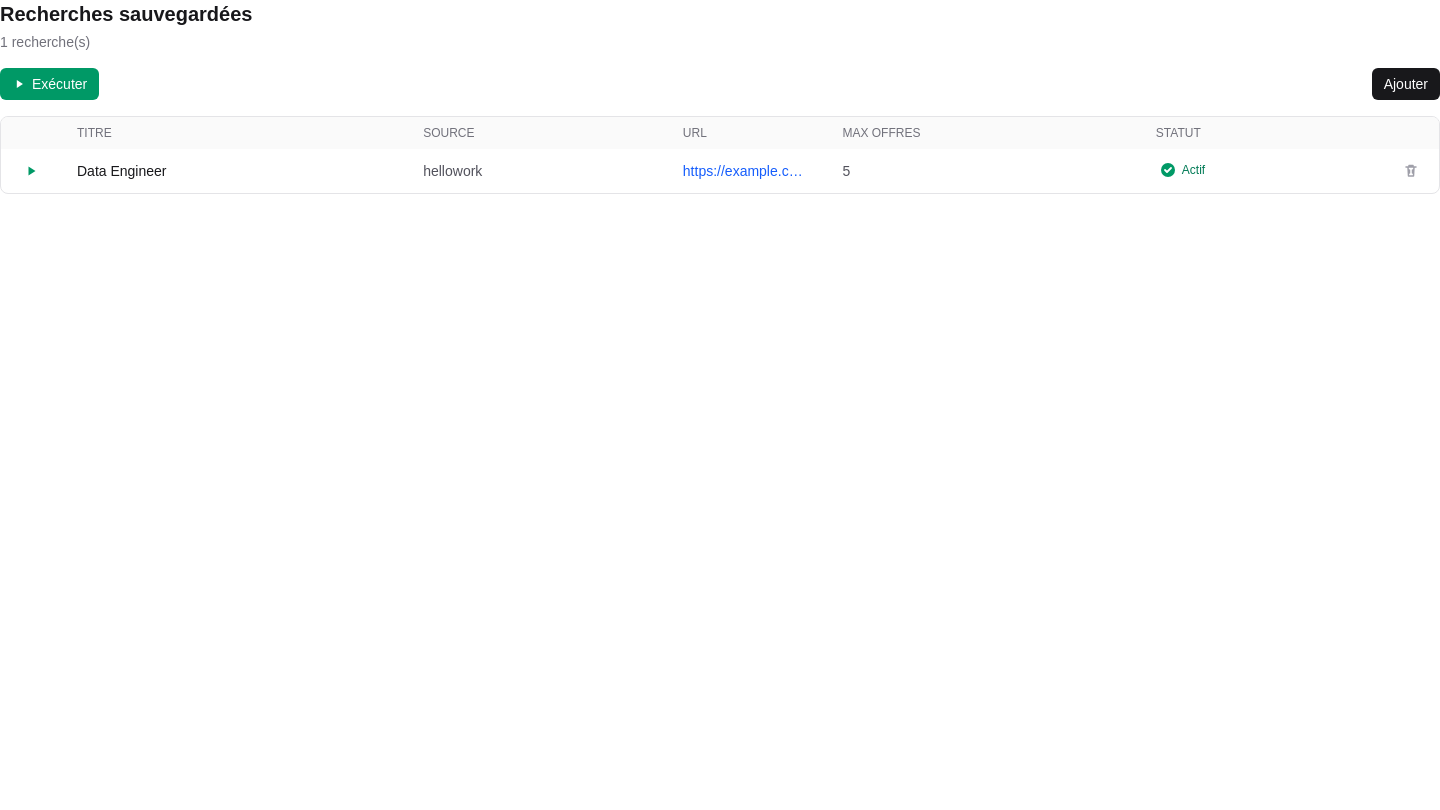
Test case: SearchSettingsBrowser › modifie un paramètre au clic sur une ligne (champs pré-remplis)
Click the text "Data Engineer" at (122,171), box top-left (61, 149), bottom-right (407, 193)
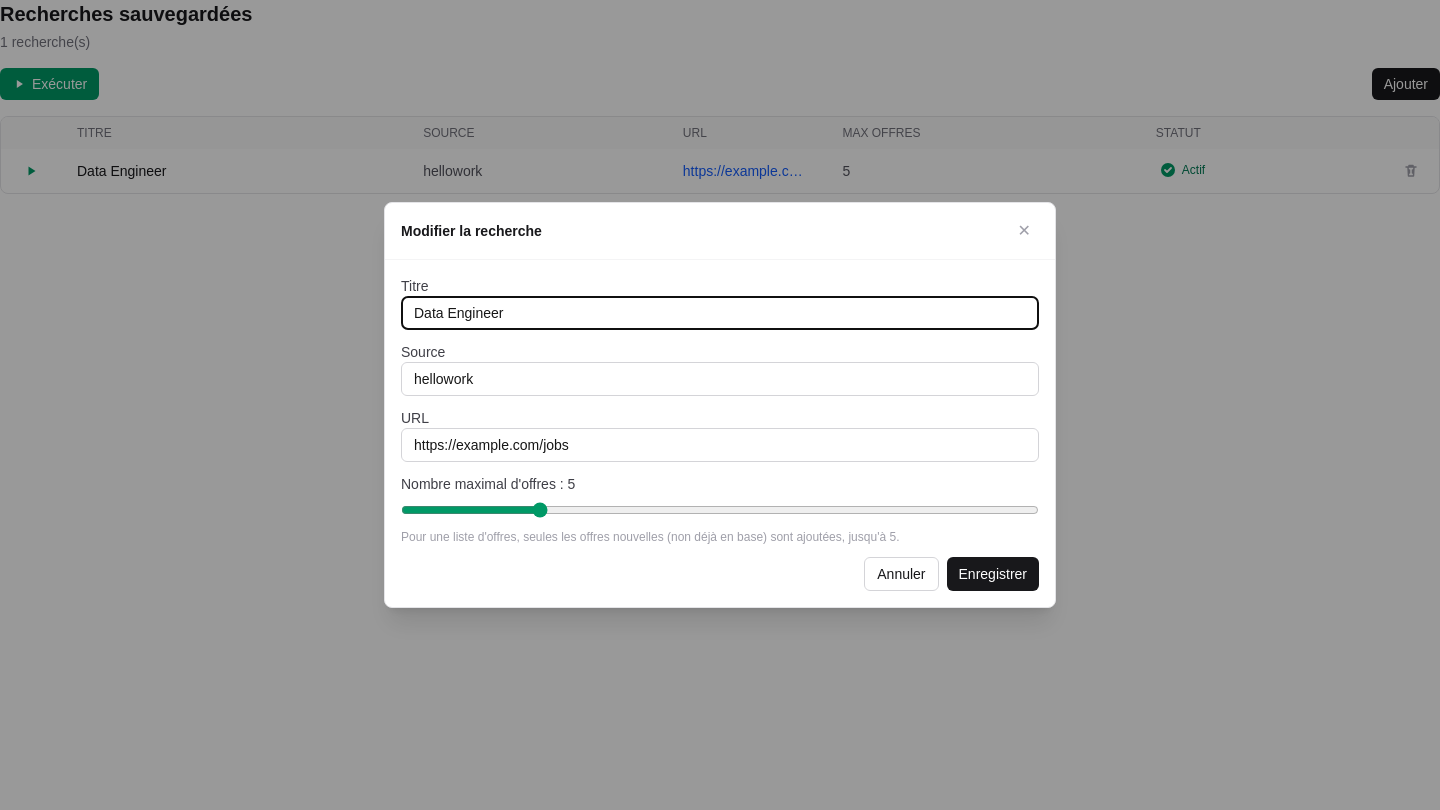
Result: the text "Modifier la recherche" is shown at top-left (401, 221), bottom-right (542, 241)
Result: the field labelled "Titre" holds "Data Engineer"
Result: the field labelled "Source" holds "hellowork" at top-left (401, 362), bottom-right (1039, 396)
Replace the text in the field labelled "Titre" with "Data Engineer Senior" at (720,313), box top-left (401, 296), bottom-right (1039, 330)
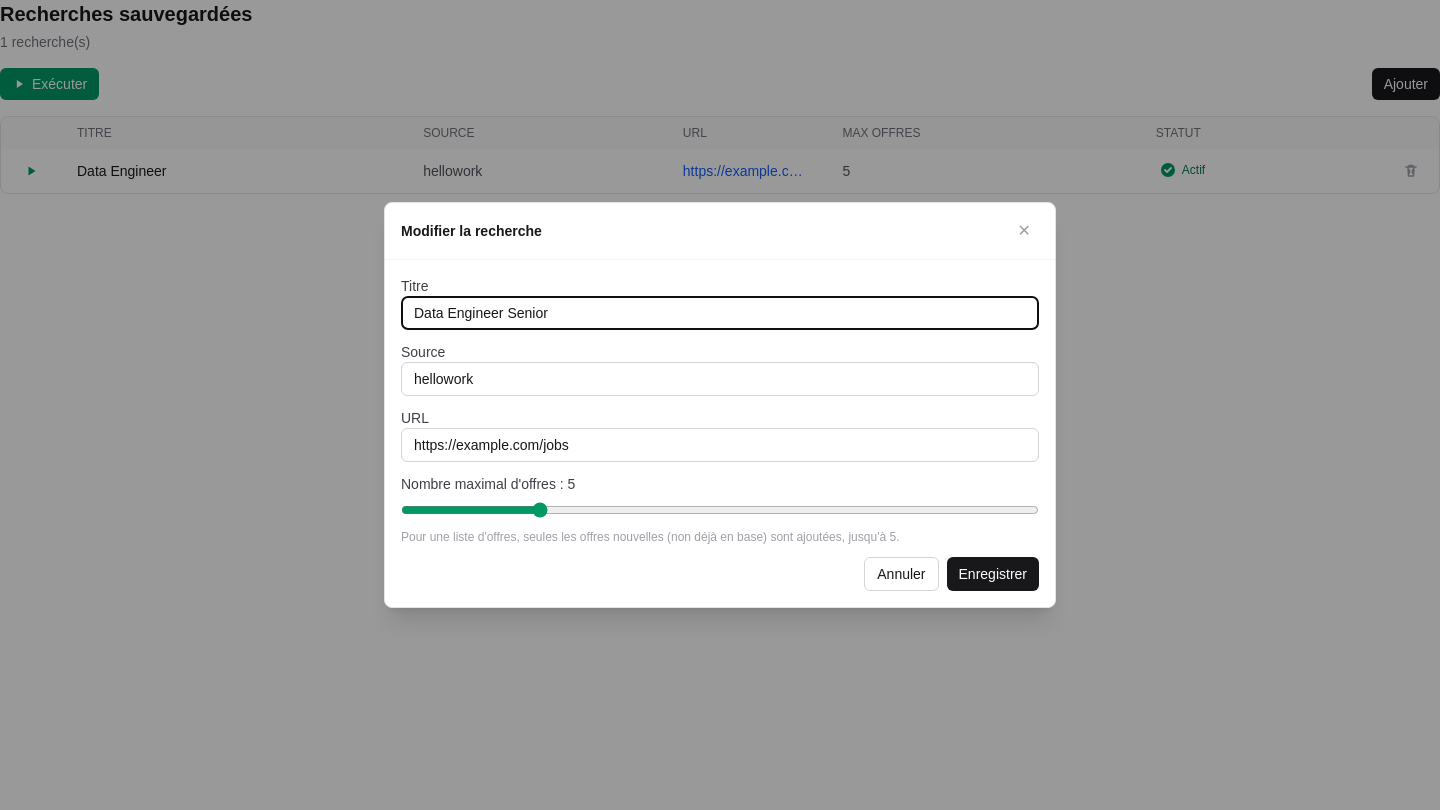
Click the button "Enregistrer" at (993,574), box top-left (946, 557), bottom-right (1039, 591)
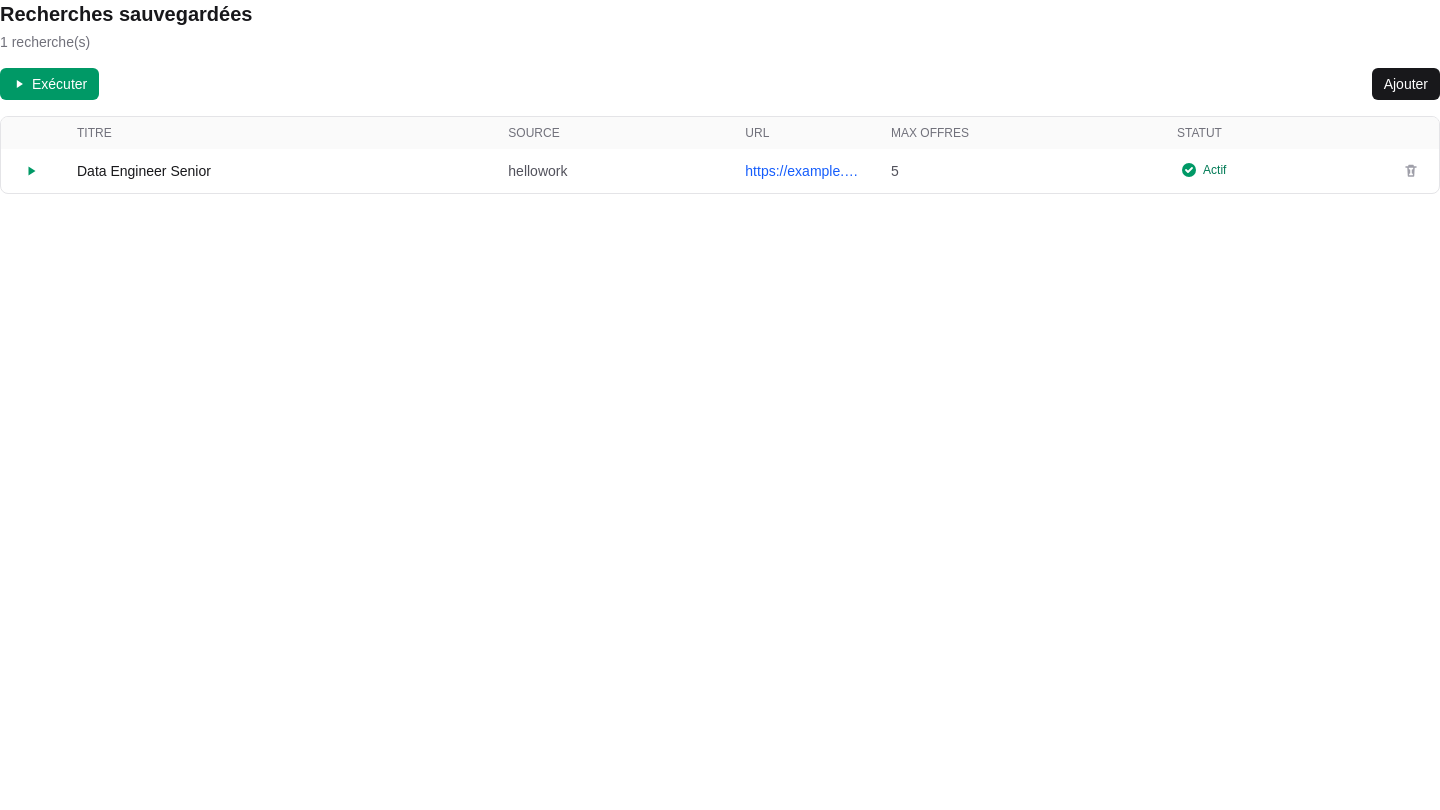
Result: the text "Data Engineer Senior" is shown at top-left (61, 149), bottom-right (492, 193)
